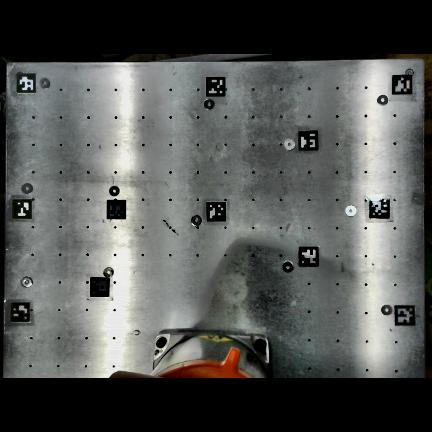marker: (394, 304, 415, 325), (12, 198, 32, 219), (370, 198, 390, 218), (299, 246, 319, 266), (298, 130, 318, 150), (206, 75, 226, 95), (10, 300, 29, 321), (207, 201, 226, 222), (392, 75, 412, 94), (17, 73, 36, 93), (107, 200, 126, 219), (90, 278, 109, 296)
washer: (20, 277, 32, 288), (380, 305, 391, 315), (283, 139, 293, 150), (108, 186, 119, 196), (282, 261, 292, 272), (345, 206, 355, 216), (21, 183, 31, 193), (377, 96, 387, 105), (203, 100, 213, 109), (191, 216, 200, 226), (103, 268, 112, 277), (40, 78, 48, 88)
